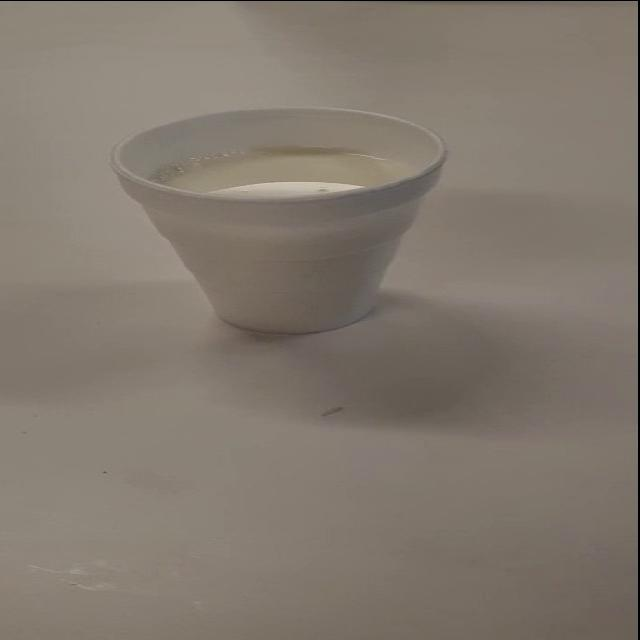milk: (63, 92, 489, 351)
